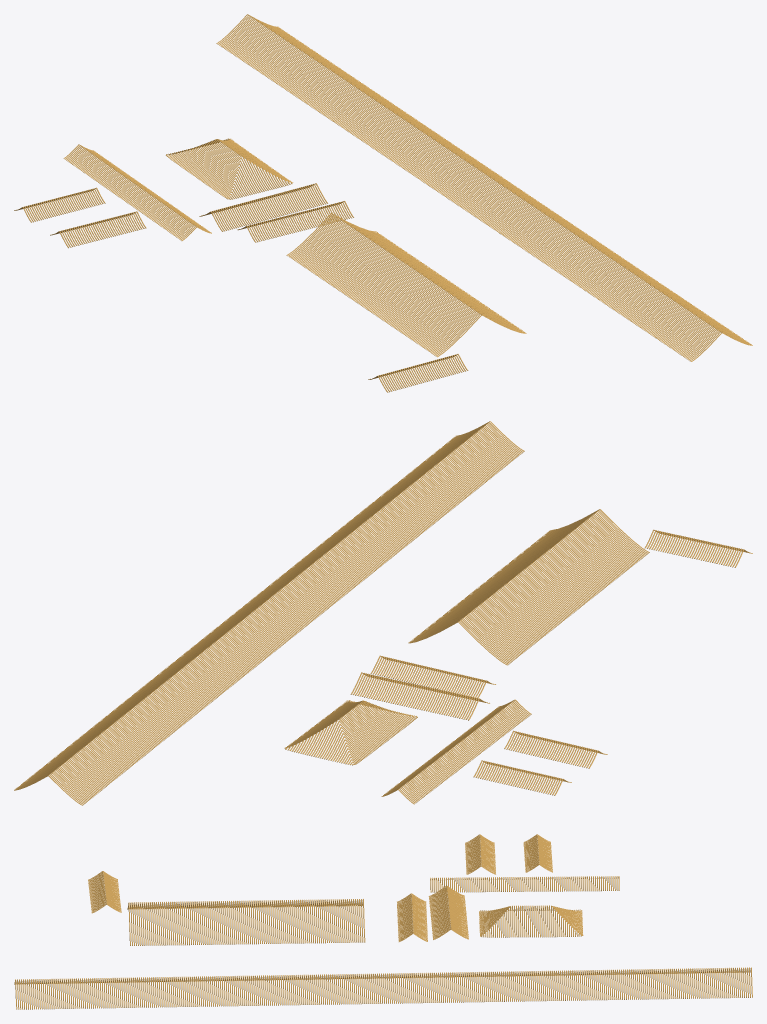
Rendered from roof-tiles-7-3.glb.
The picture shows the model from 3 angles, top to bottom: view 1: azimuth 30°, elevation 25°; view 2: azimuth 150°, elevation 25°; view 3: azimuth 270°, elevation 25°; orthographic projection. The views are drawn at different scales.
Visible parts, largest first — view 1: roof-tiles-7-3_micro_Roof_Glazed_Ochre; view 2: roof-tiles-7-3_micro_Roof_Glazed_Ochre; view 3: roof-tiles-7-3_micro_Roof_Glazed_Ochre.
Boxes of the visible parts, box(x1,y1,x2,y2) form: roof-tiles-7-3_micro_Roof_Glazed_Ochre: box(14, 14, 752, 392); roof-tiles-7-3_micro_Roof_Glazed_Ochre: box(14, 421, 752, 805); roof-tiles-7-3_micro_Roof_Glazed_Ochre: box(14, 834, 752, 1009).
Size of the model in its own units: 0.8068 by 0.0572 by 1.5.
